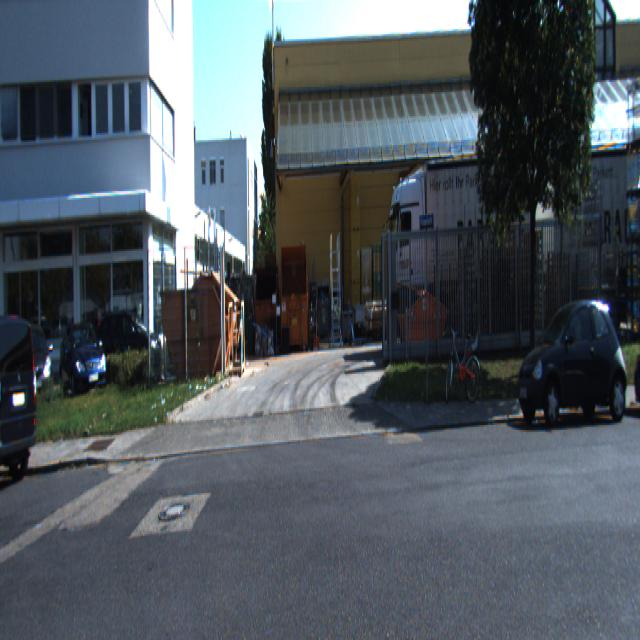Car: (386, 140, 536, 343), (514, 294, 628, 422), (0, 306, 40, 494), (58, 320, 107, 409)
